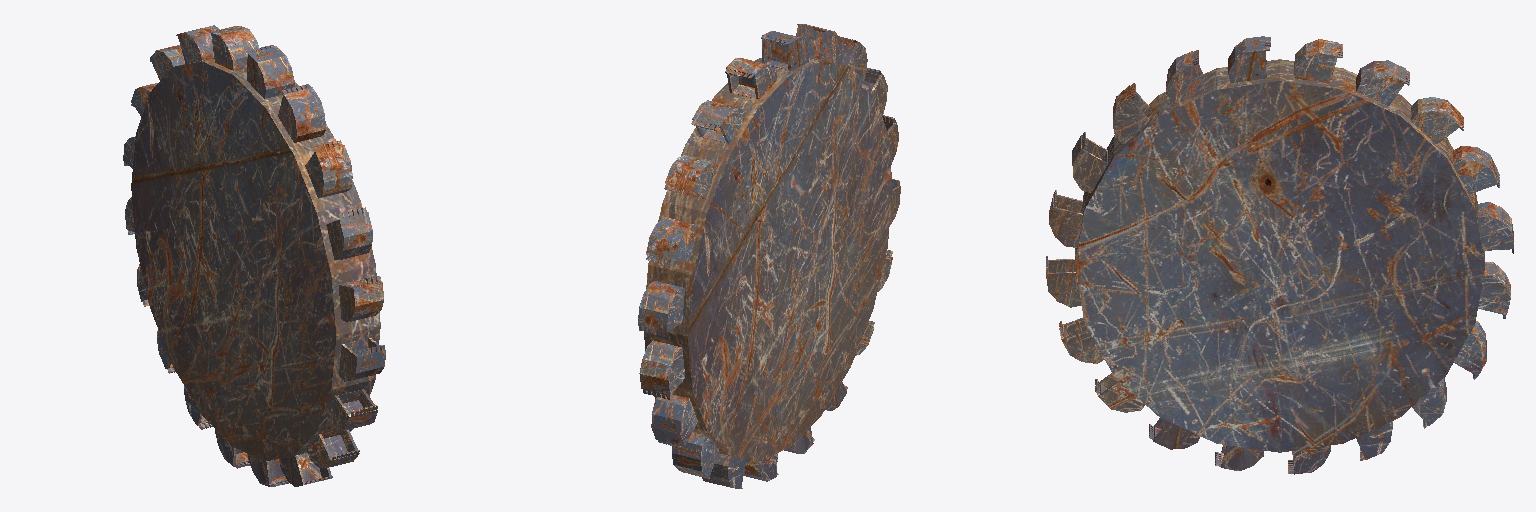
3 renders of one model, left to right at view 1: azimuth 30°, elevation 25°; view 2: azimuth 150°, elevation 25°; view 3: azimuth 270°, elevation 25°, orthographic.
Parts seen in each view (by area): view 1: Rotor; view 2: Rotor; view 3: Rotor.
Boxes of the visible parts, box(x1,y1,x2,y2) form: Rotor: box(123, 25, 385, 486); Rotor: box(638, 24, 900, 488); Rotor: box(1046, 36, 1513, 474).
Bounding box in the file's own units: 0.3034 × 2.77 × 2.77.
Materials: 1 (1 with a texture image).